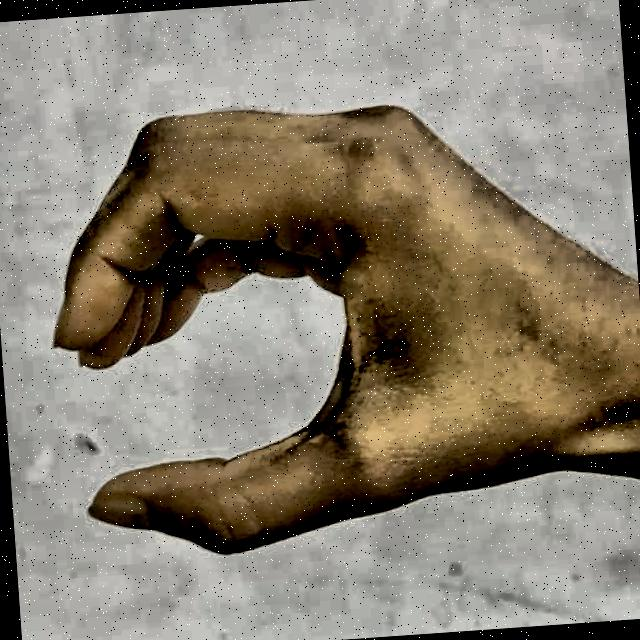Ka: (22, 46, 640, 595)
